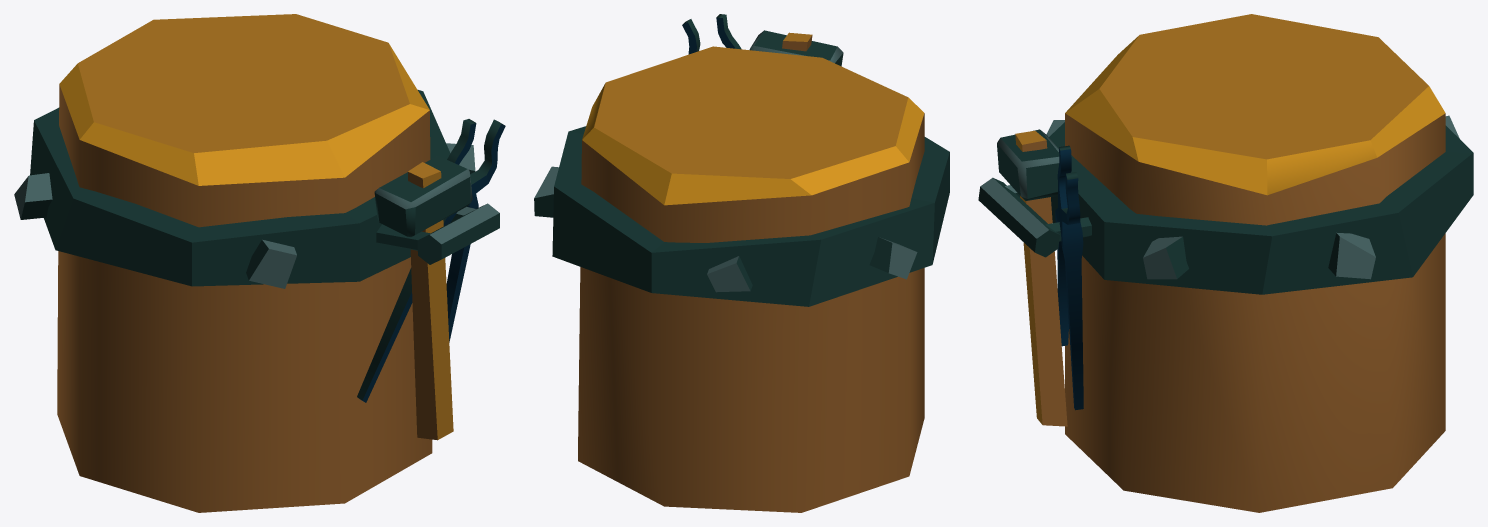
The model's file is bancada_ferreiro_ferramentas.fbx.
3 renders of one model, left to right at view 1: azimuth 30°, elevation 25°; view 2: azimuth 150°, elevation 25°; view 3: azimuth 270°, elevation 25°, orthographic. The views are drawn at different scales.
Visible parts, largest first — view 1: bancada_ferreiro_ferramentas; view 2: bancada_ferreiro_ferramentas; view 3: bancada_ferreiro_ferramentas.
Boxes of the visible parts, bbox=[...] form: bancada_ferreiro_ferramentas: bbox=[14, 14, 505, 512]; bancada_ferreiro_ferramentas: bbox=[534, 14, 949, 512]; bancada_ferreiro_ferramentas: bbox=[978, 14, 1473, 512].
Bounding box in the file's own units: 83.21 × 71.77 × 92.88.
